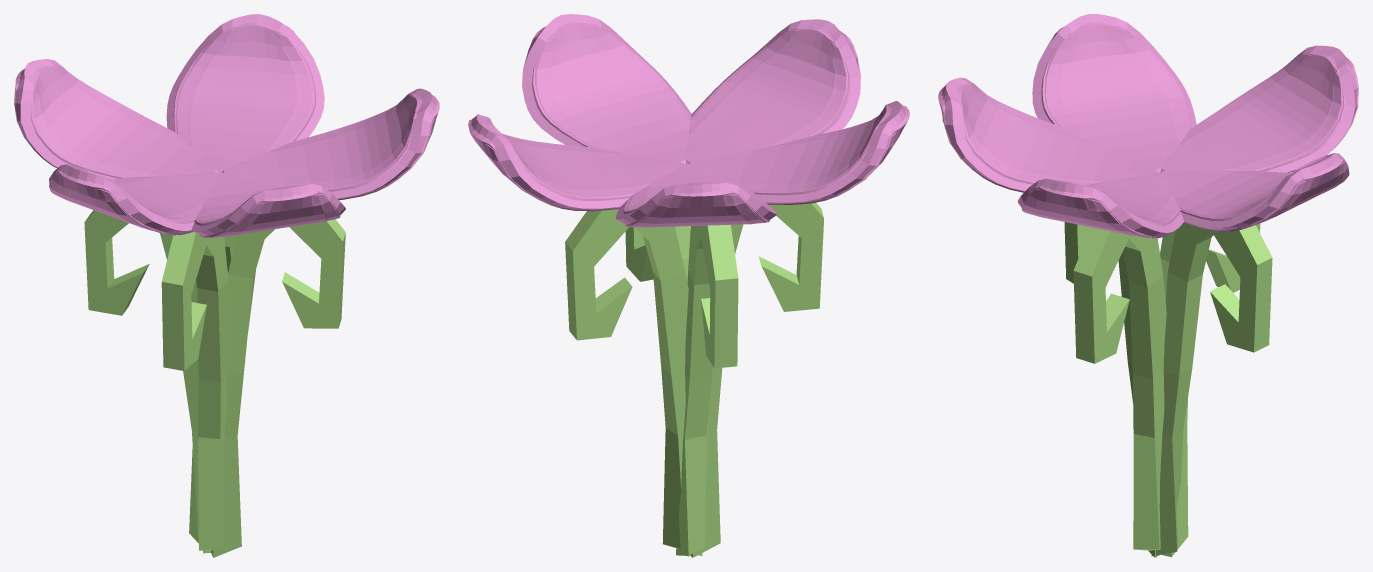
File: PODEST.fbx
3 renders of one model, left to right at view 1: azimuth 30°, elevation 25°; view 2: azimuth 150°, elevation 25°; view 3: azimuth 270°, elevation 25°, orthographic. The views are drawn at different scales.
Parts seen in each view (by area): view 1: Plane.012; view 2: Plane.012; view 3: Plane.012.
Boxes of the visible parts, x1,y1,x2,y2 form: Plane.012: [14, 14, 439, 557]; Plane.012: [468, 14, 909, 557]; Plane.012: [938, 14, 1358, 557].
Bounding box in the file's own units: 127 × 150 × 126.
